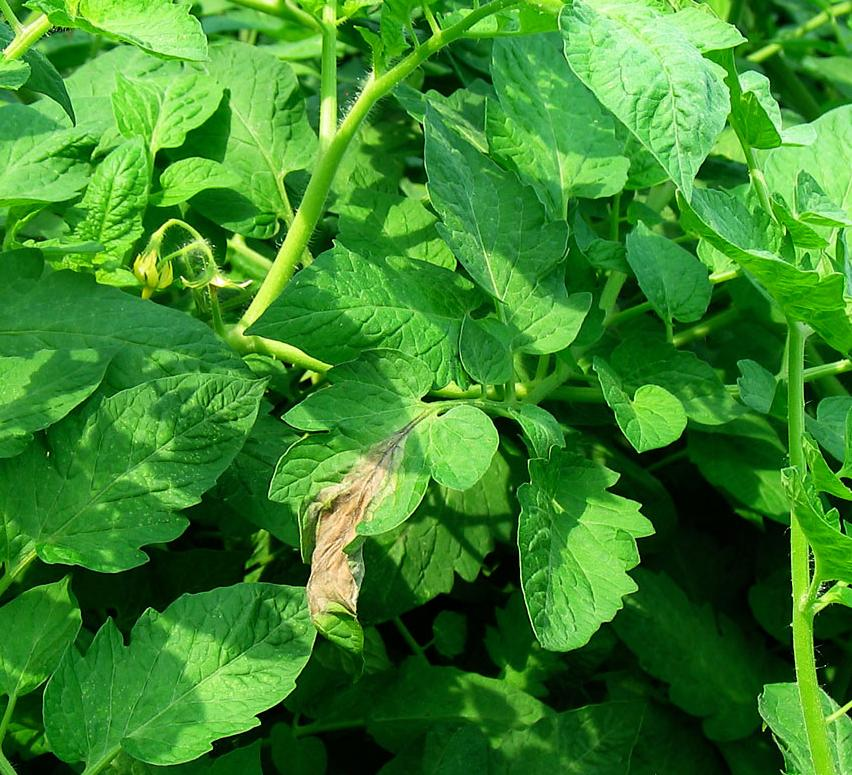Tomato leaf: (0, 360, 268, 608), (400, 85, 594, 387), (35, 594, 324, 775), (510, 417, 659, 662), (490, 2, 635, 253), (0, 321, 97, 484), (771, 94, 852, 287), (0, 572, 89, 704), (55, 0, 223, 59)
Tomato leaf late blight: (272, 379, 487, 594)
